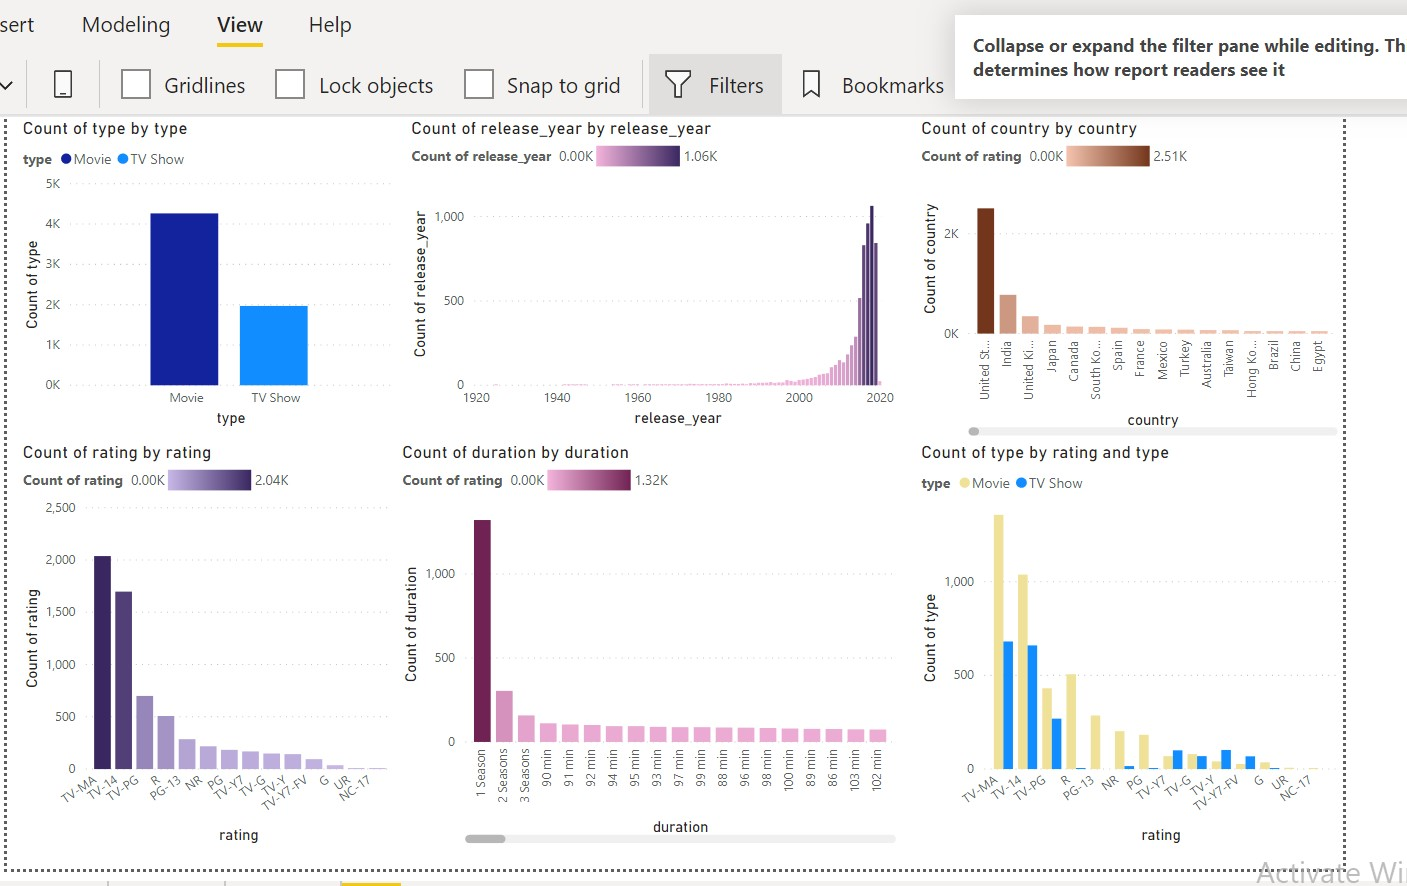

What the dashboard file says about the page in this screenshot:
{"tool":"powerbi","page":{"name":"Page 1","canvas":[1280,720],"ordinal":0},"visuals":[{"type":"columnChart","title":"Count of type by type","fields":{"Category":["netflix_titles.type"],"Series":["netflix_titles.type"],"Y":["CountNonNull(netflix_titles.type)"]},"box":[9.5,0,363.6,301.1],"z":0},{"type":"columnChart","fields":{"Category":["netflix_titles.rating"],"Y":["CountNonNull(netflix_titles.rating)"]},"box":[9.5,310.5,363.6,390.1],"z":1000},{"type":"columnChart","fields":{"Category":["netflix_titles.release_year"],"Y":["CountNonNull(netflix_titles.release_year)"]},"box":[382.5,0,473.4,301.1],"z":2000},{"type":"columnChart","fields":{"Category":["netflix_titles.duration"],"Y":["CountNonNull(netflix_titles.duration)"]},"box":[373,310.5,482.8,390.1],"z":3000},{"type":"columnChart","fields":{"Category":["netflix_titles.country"],"Y":["CountNonNull(netflix_titles.country)"]},"box":[871,0,409,310.5],"z":4000},{"type":"clusteredColumnChart","fields":{"Category":["netflix_titles.rating"],"Series":["netflix_titles.type"],"Y":["CountNonNull(netflix_titles.type)"]},"box":[871,311,409,390],"z":5000}]}

Visuals, with their boxes on the page's 1280x720 design canvas (x1, y1, x2, y2). These are canvas units, not pixel positions in the 1407x886 screenshot, which may show the page scaled, cropped or inside an application window:
"Count of type by type" columnChart: pyautogui.locateOnScreen(10, 0, 373, 301)
columnChart - netflix_titles.rating x CountNonNull(netflix_titles.rating): pyautogui.locateOnScreen(10, 310, 373, 701)
columnChart - netflix_titles.release_year x CountNonNull(netflix_titles.release_year): pyautogui.locateOnScreen(382, 0, 856, 301)
columnChart - netflix_titles.duration x CountNonNull(netflix_titles.duration): pyautogui.locateOnScreen(373, 310, 856, 701)
columnChart - netflix_titles.country x CountNonNull(netflix_titles.country): pyautogui.locateOnScreen(871, 0, 1280, 310)
clusteredColumnChart - netflix_titles.rating x netflix_titles.type: pyautogui.locateOnScreen(871, 311, 1280, 701)
